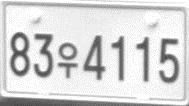1: (110, 34, 126, 82), (135, 34, 150, 83)
3: (31, 33, 53, 78)
4: (81, 34, 106, 81)
5: (157, 37, 180, 83)
8: (10, 31, 30, 76)
우: (57, 41, 77, 80)
